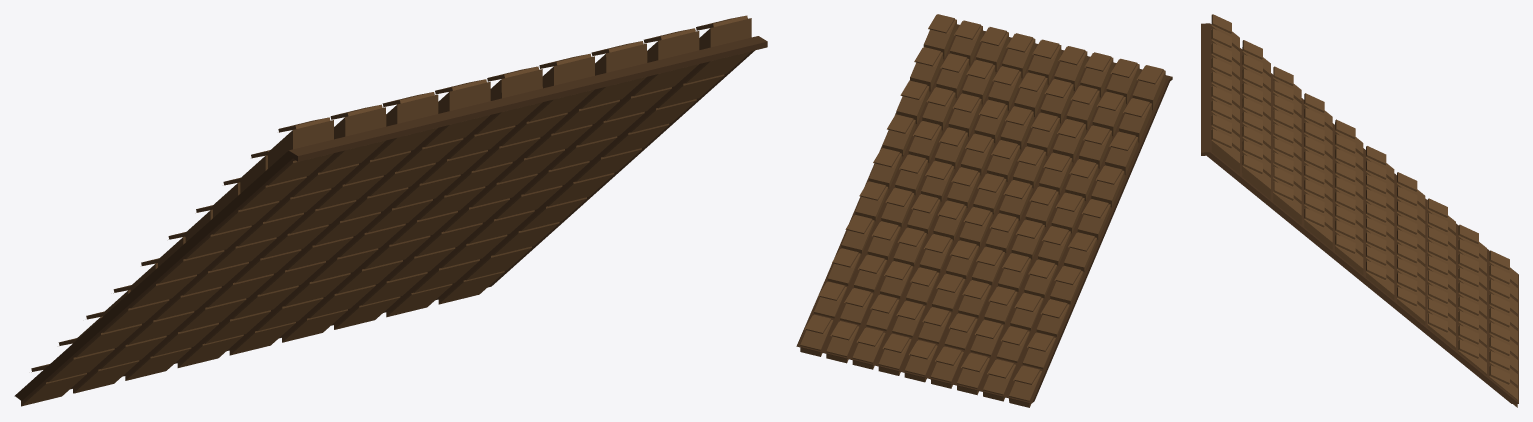
The model's file is roof_for_survival_videogame.glb.
3 renders of one model, left to right at view 1: azimuth 30°, elevation 25°; view 2: azimuth 150°, elevation 25°; view 3: azimuth 270°, elevation 25°, orthographic. The views are drawn at different scales.
Visible parts, largest first — view 1: Cube; view 2: Cube; view 3: Cube.
Part boxes in pixels (x1,y1,x2,y2): Cube: [14, 15, 767, 406]; Cube: [796, 14, 1172, 407]; Cube: [1201, 14, 1518, 407].
Size of the model in its own units: 539 by 523 by 560.
Materials: 1 (1 with a texture image).
